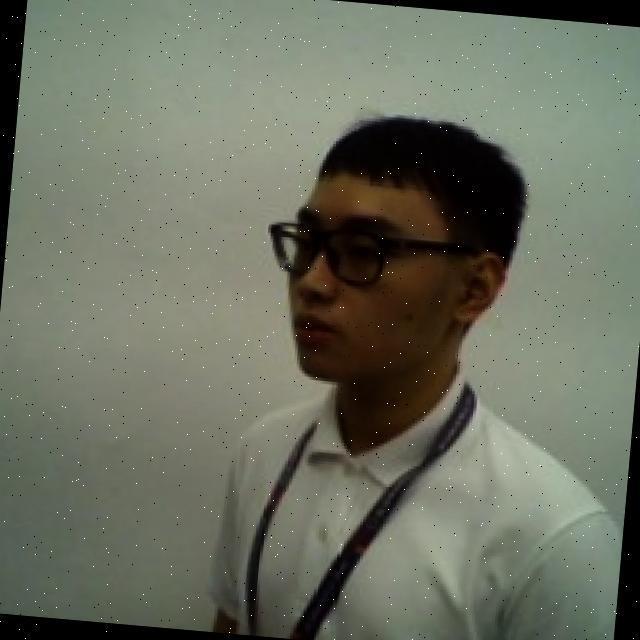no_gloves: (274, 91, 544, 273)
no_hairnet: (270, 226, 510, 400)
